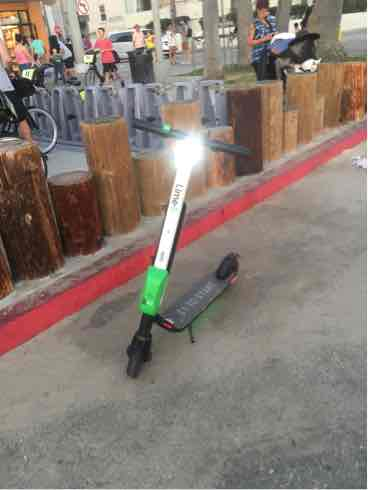scooter: (121, 133, 252, 388)
